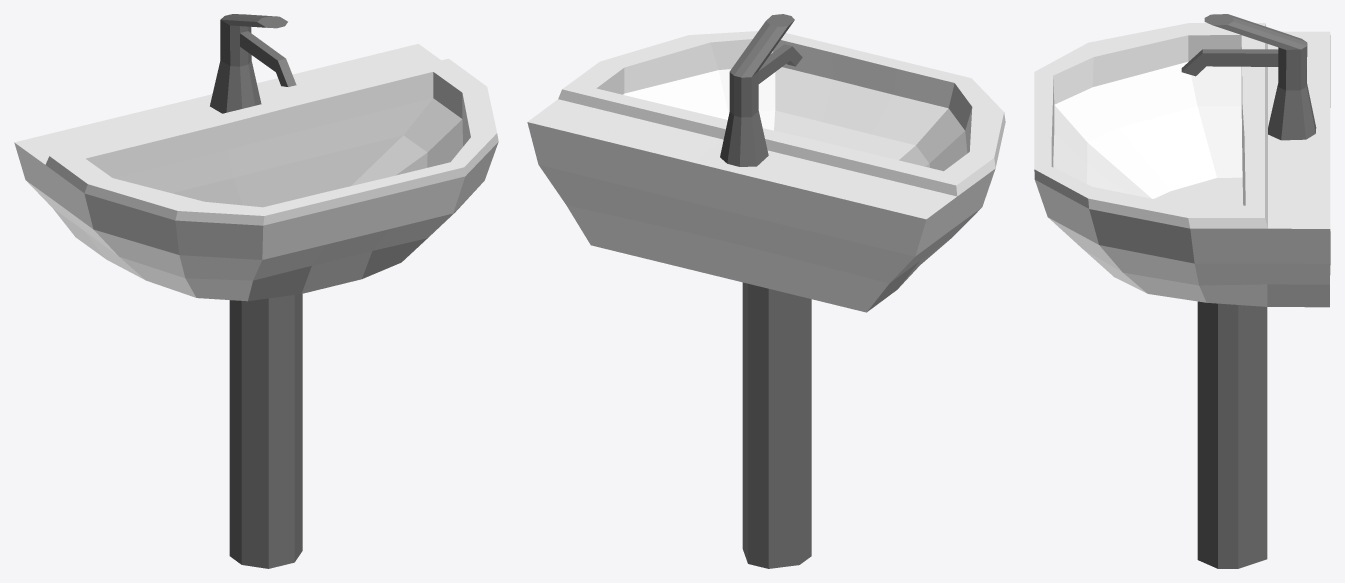
File: jamilavuaari1.fbx
3 views of the same model, side by side, from view 1: azimuth 30°, elevation 25°; view 2: azimuth 150°, elevation 25°; view 3: azimuth 270°, elevation 25° (orthographic).
Parts seen in each view (by area): view 1: Cube; view 2: Cube; view 3: Cube.
Boxes of the visible parts, <box> form: Cube: <box>14,14,498,568</box>; Cube: <box>527,14,1005,568</box>; Cube: <box>1034,14,1330,568</box>.
Bounding box in the file's own units: 446 × 564 × 283.
